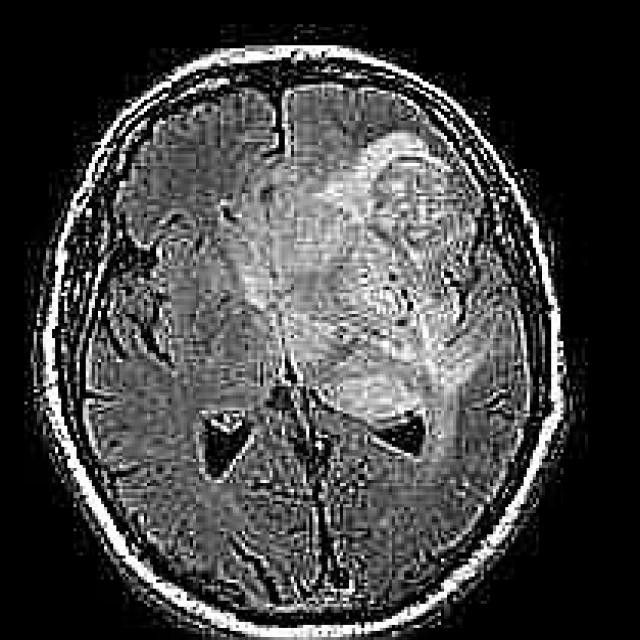Tumor-Cell: (326, 152, 490, 356)
